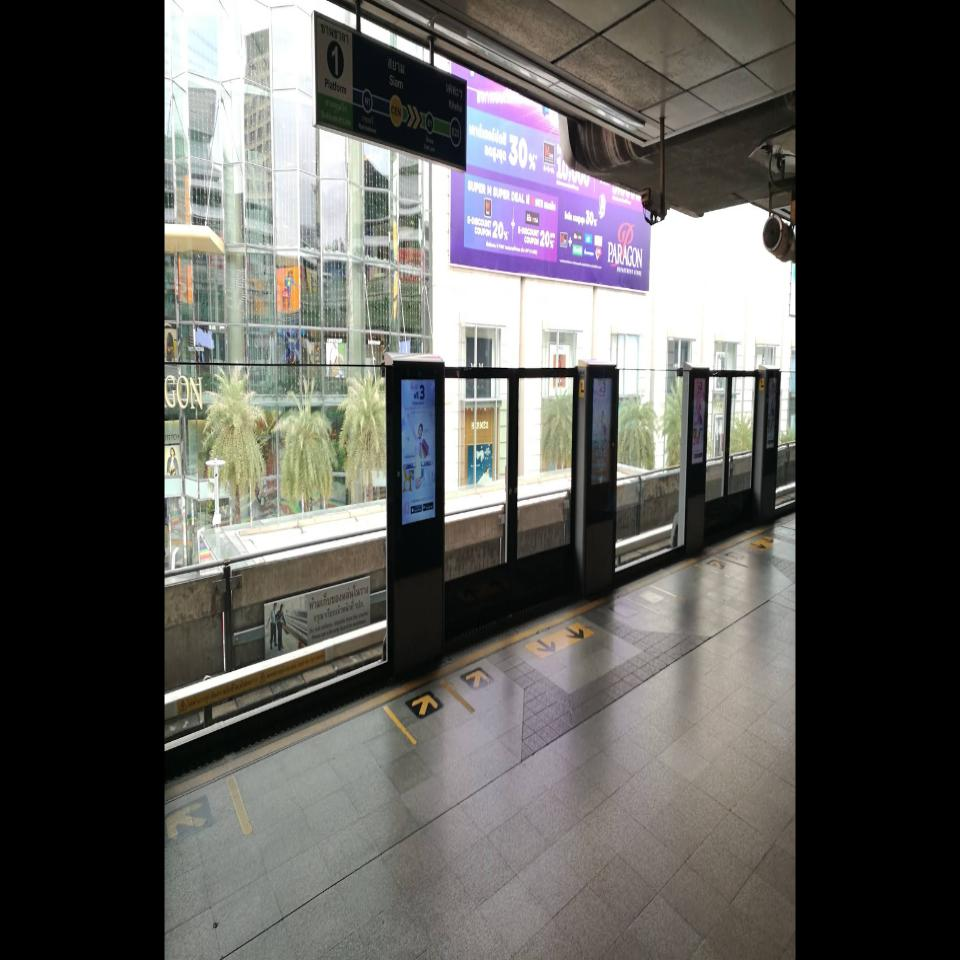signage: (362, 54, 435, 134)
